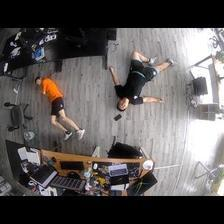fall: (110, 52, 178, 110), (34, 75, 86, 140)
